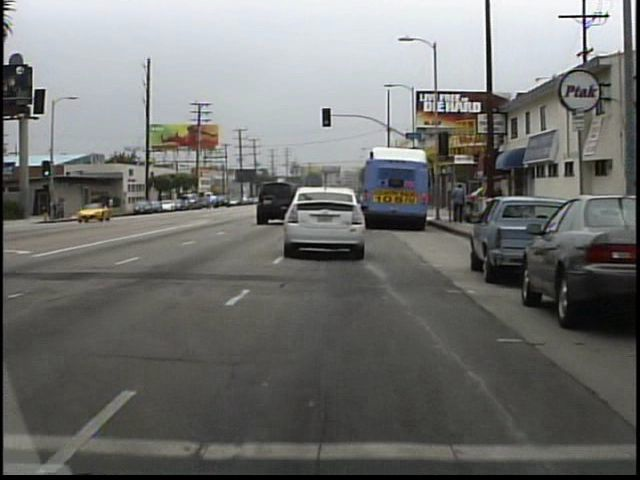person: (448, 182, 467, 226), (106, 192, 120, 217)
